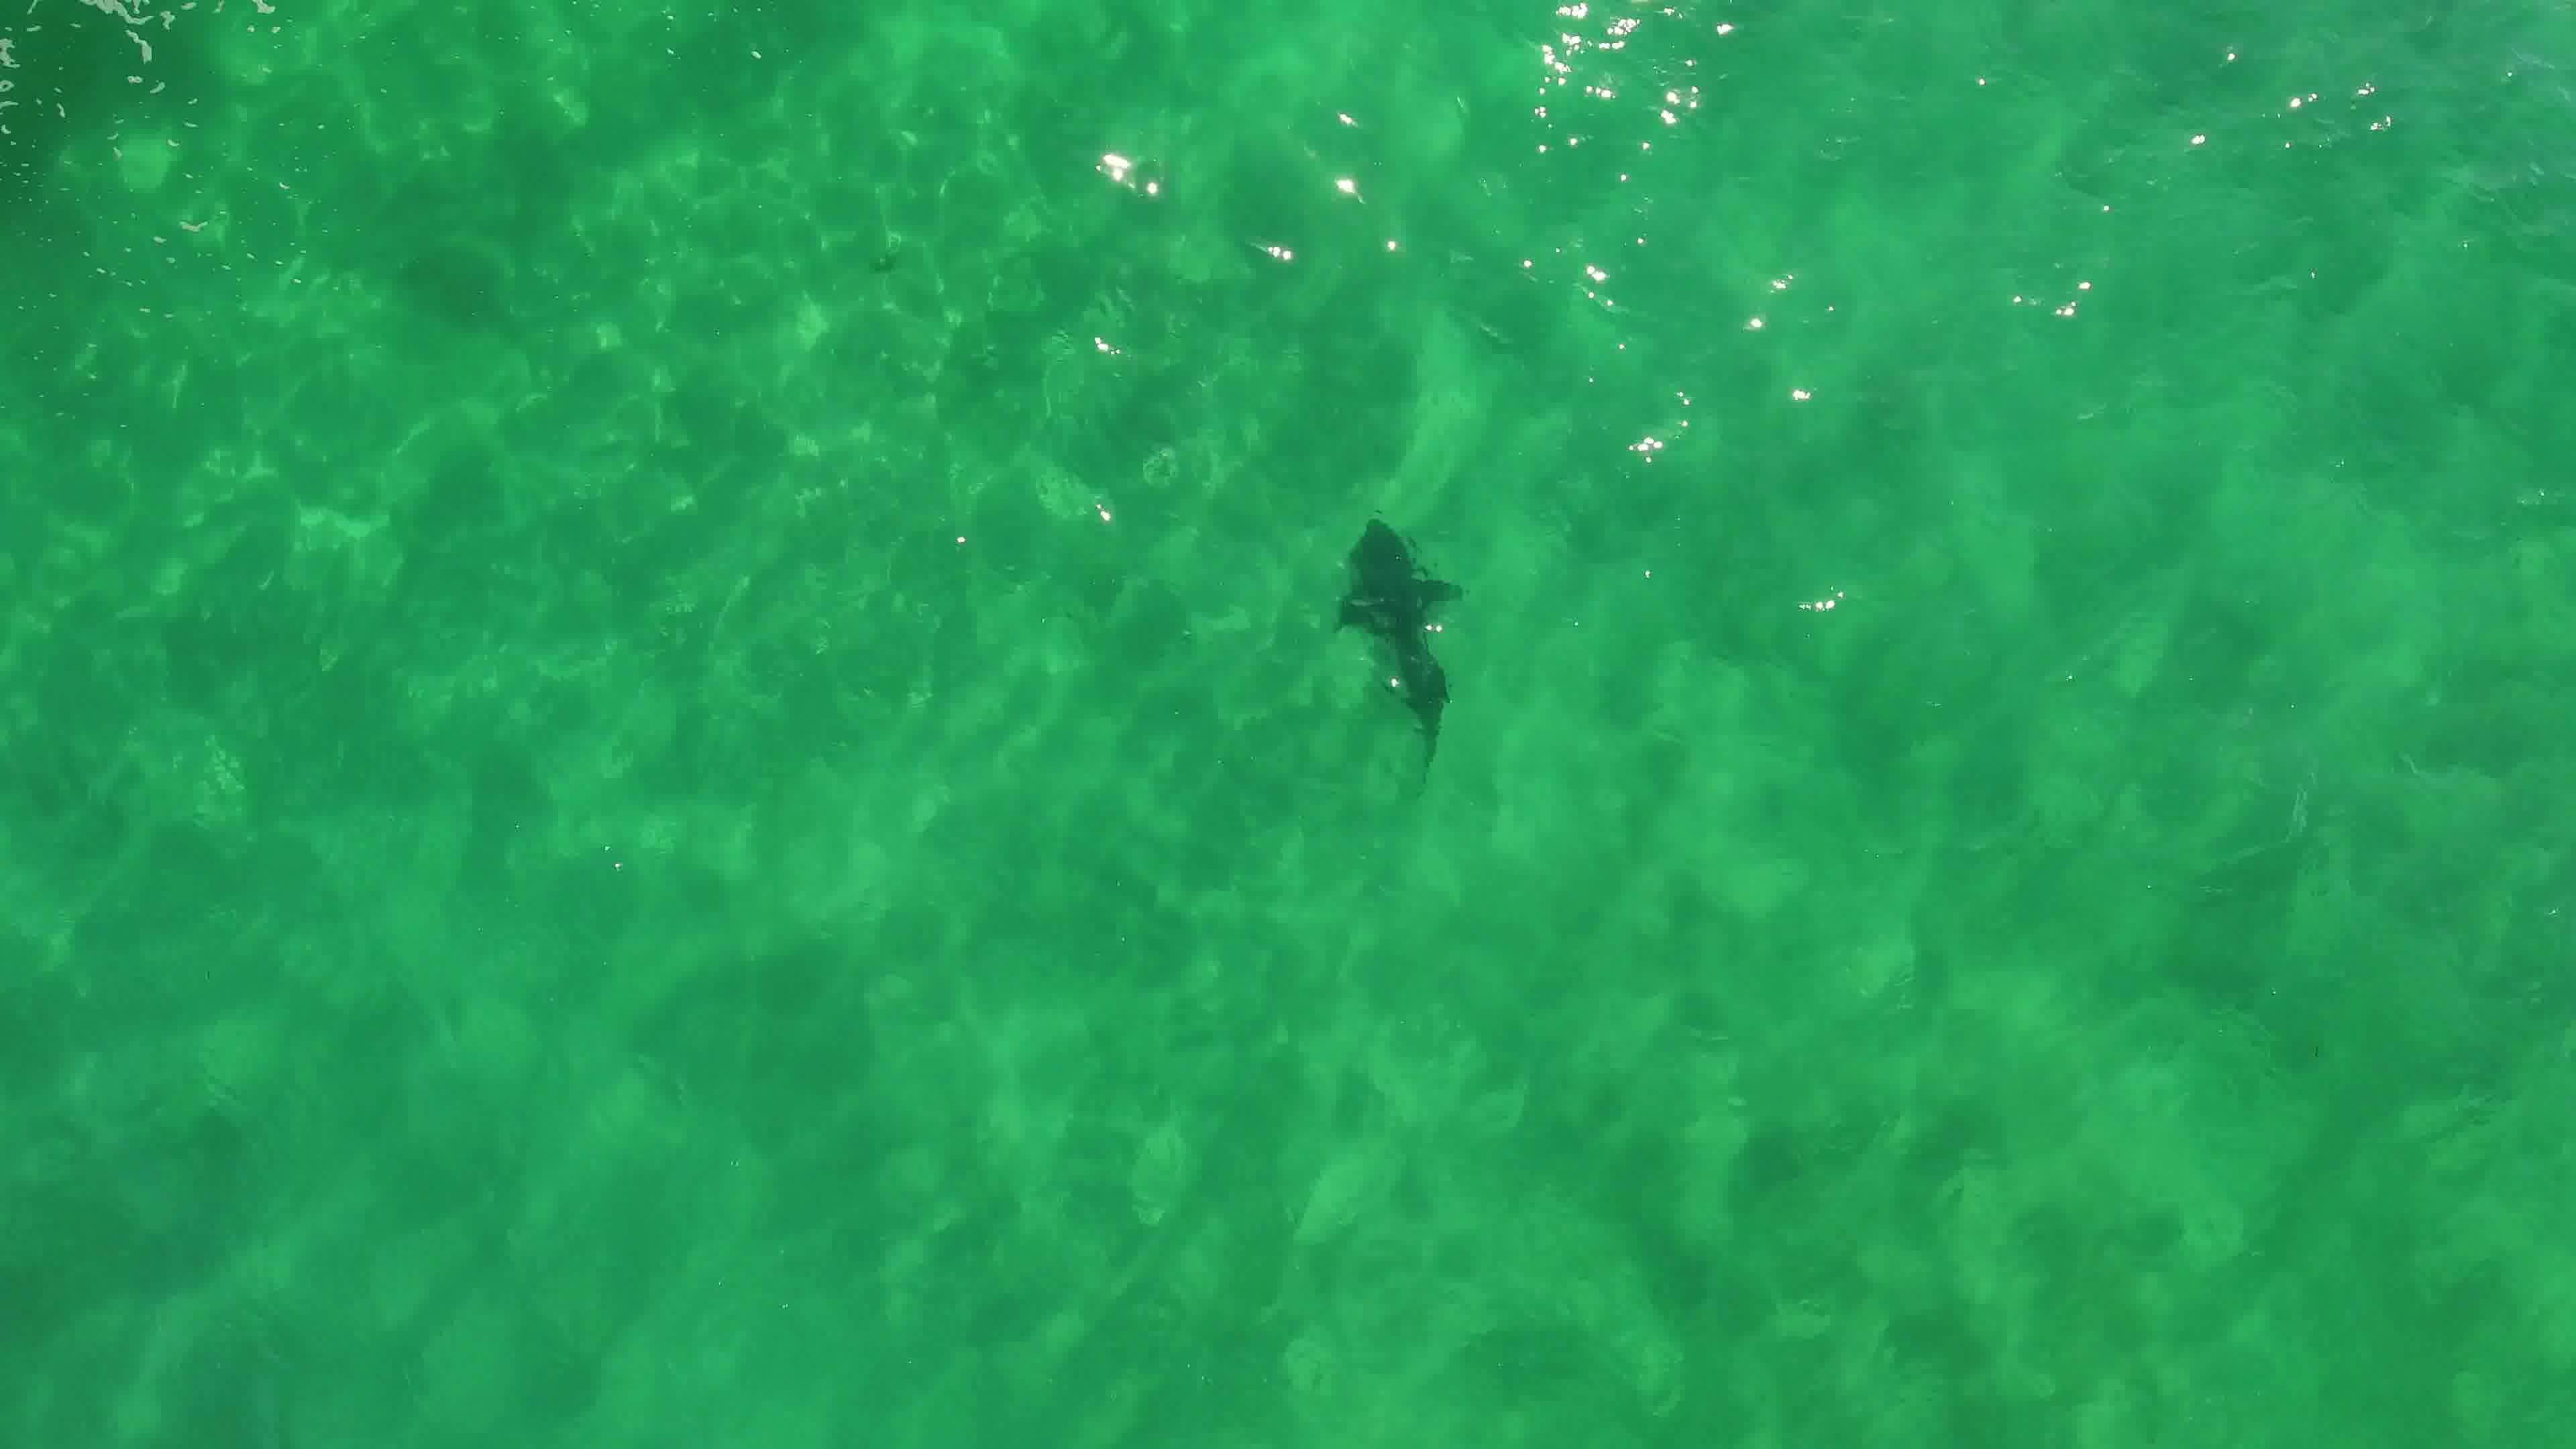shark: (1318, 502, 1468, 796)
